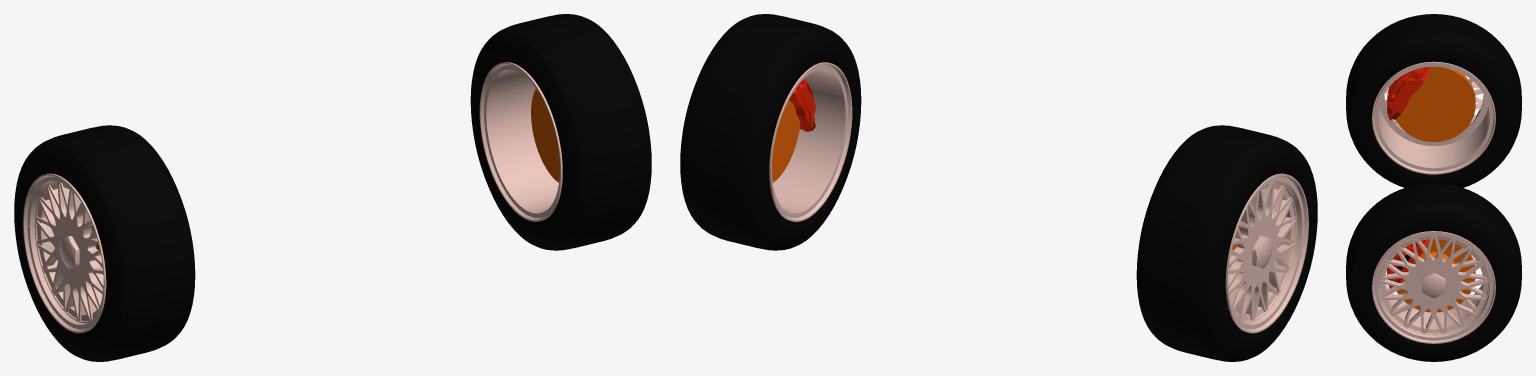
The model's file is llantasi.fbx.
The picture shows the model from 3 angles, left to right: view 1: azimuth 30°, elevation 25°; view 2: azimuth 150°, elevation 25°; view 3: azimuth 270°, elevation 25°; orthographic projection. The views are drawn at different scales.
Parts seen in each view (by area): view 1: BMW_E30_M3_TIRE.003; view 2: BMW_E30_M3_TIRE.003; view 3: BMW_E30_M3_TIRE.003.
Boxes of the visible parts, box(x1,y1,x2,y2) form: BMW_E30_M3_TIRE.003: box(14, 14, 651, 361); BMW_E30_M3_TIRE.003: box(680, 14, 1317, 361); BMW_E30_M3_TIRE.003: box(1346, 14, 1521, 361).
Bounding box in the file's own units: 167 × 62.32 × 62.32.
